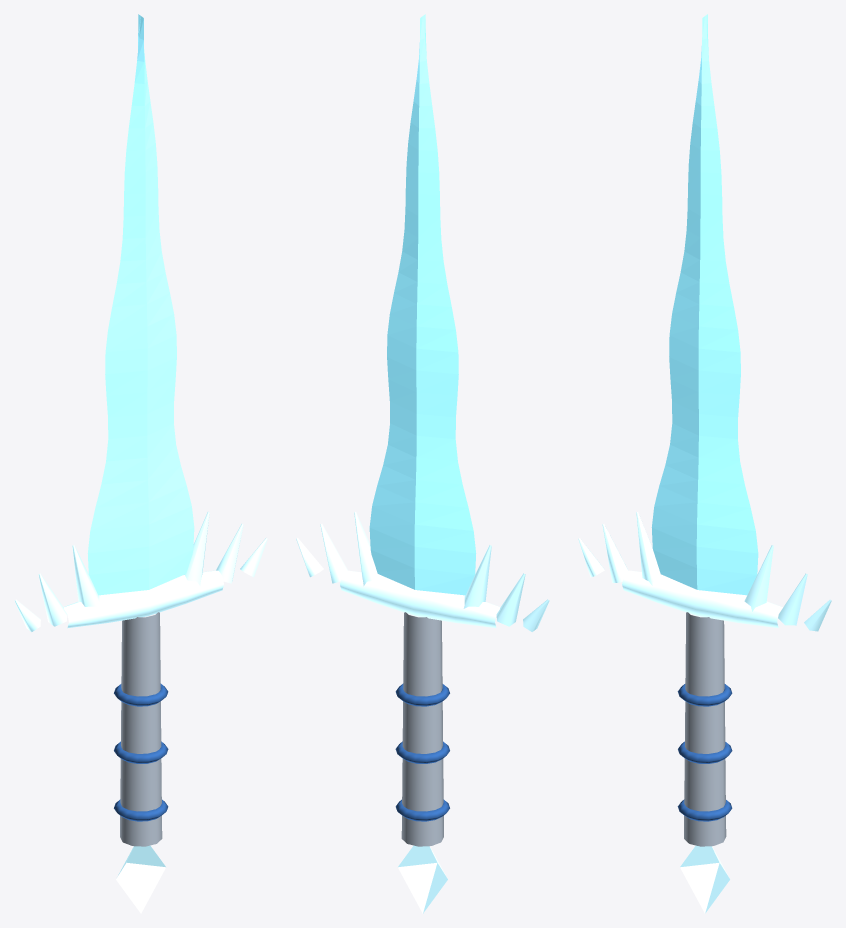
Rendered from dagger_5.glb.
3 views of the same model, side by side, from view 1: azimuth 30°, elevation 25°; view 2: azimuth 150°, elevation 25°; view 3: azimuth 330°, elevation 25° (orthographic).
Parts seen in each view (by area): view 1: dagger_5; view 2: dagger_5; view 3: dagger_5.
Part boxes in pixels (<box>): dagger_5: <box>14,14,267,913</box>; dagger_5: <box>296,14,549,913</box>; dagger_5: <box>578,14,831,913</box>.
Bounding box in the file's own units: 0.2615 × 0.885 × 0.052.
